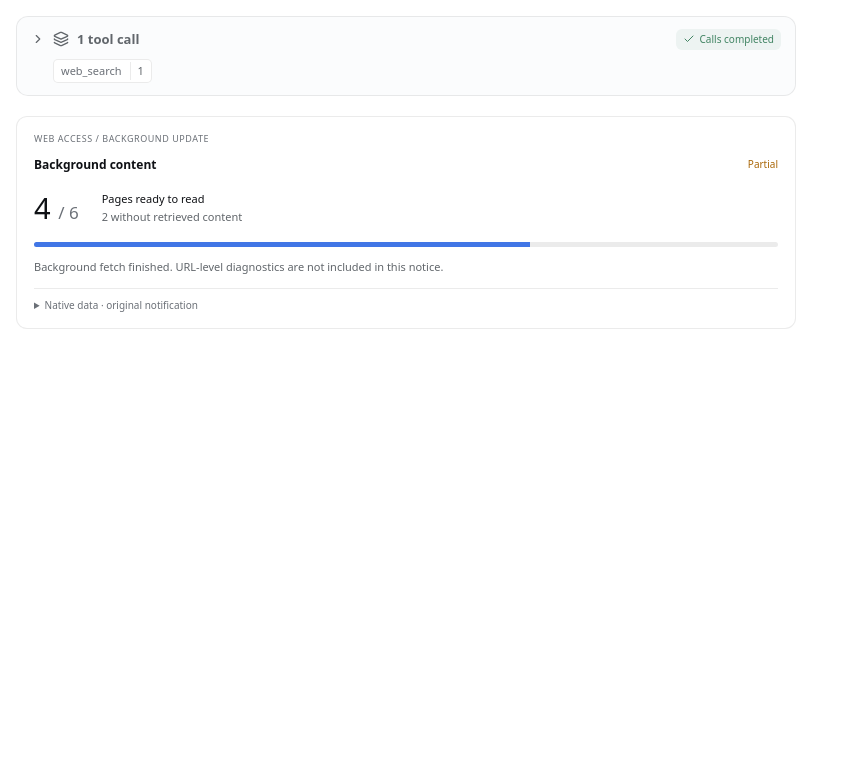
retains two disclosure levels and does not relabel page coverage as all-success
Check: the element named "Tool execution status" reads "Calls completed", box [700,32,774,46]
Check: the button "Discovery link" is not shown
Click the button "1 tool call" at (85, 39), box [31,28,139,50]
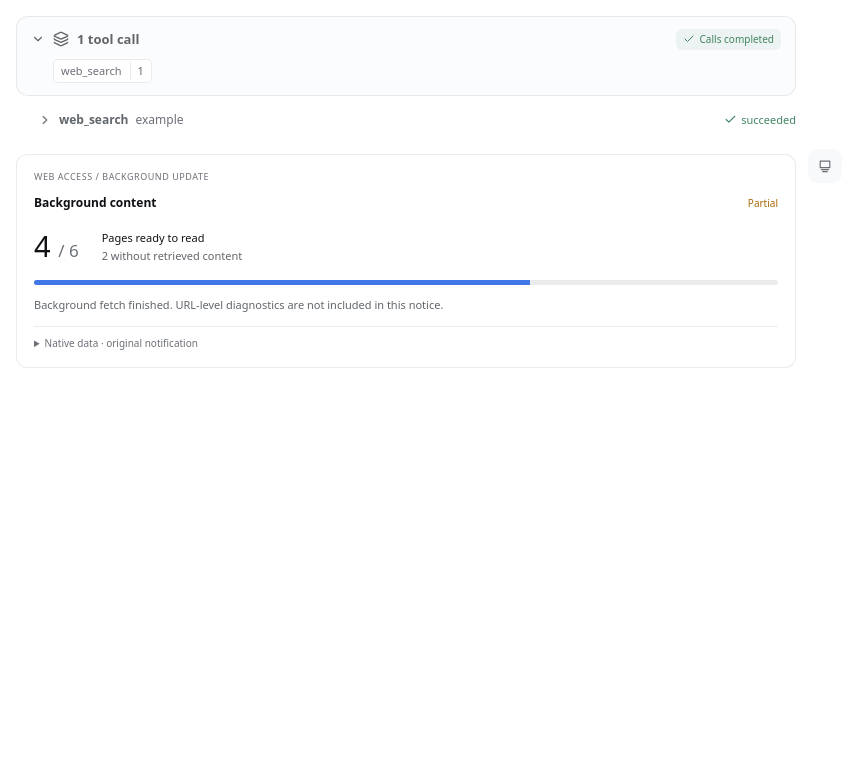
Click the button "web_search example succeeded" at (94, 119), box [38,106,796,134]
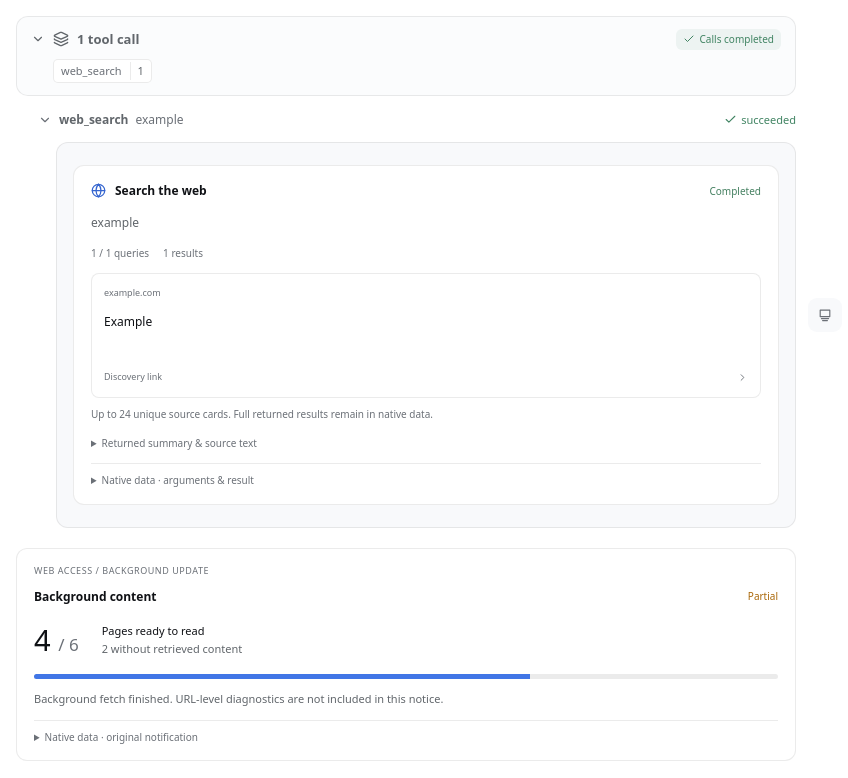
Check: the button "example.com Example Discovery link" is shown, box [91,273,761,398]
Click the button "1 tool call" at (85, 39), box [31,28,139,50]
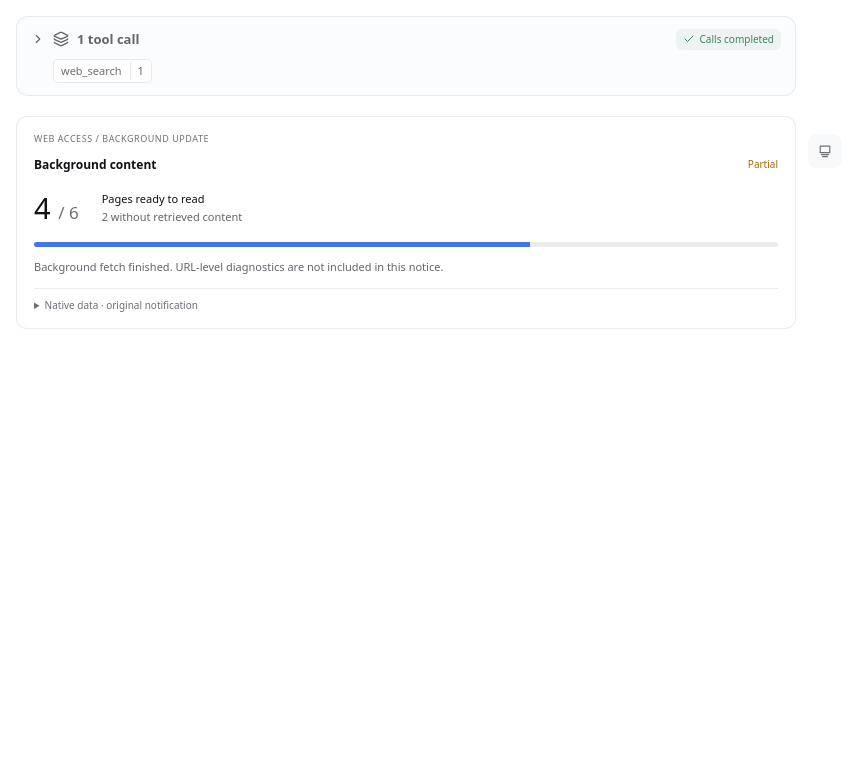
Check: the button "Discovery link" is gone
